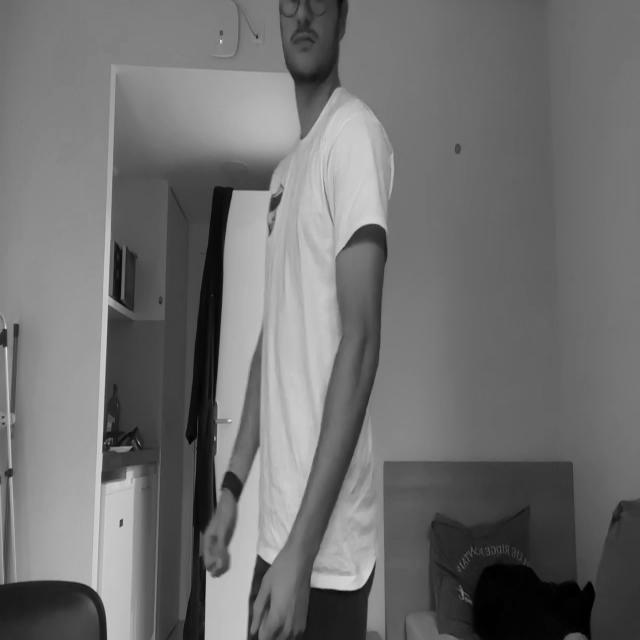elbow: (340, 313, 382, 382)
hand: (249, 557, 309, 638), (200, 491, 236, 575)
shoulder: (329, 112, 389, 210)
